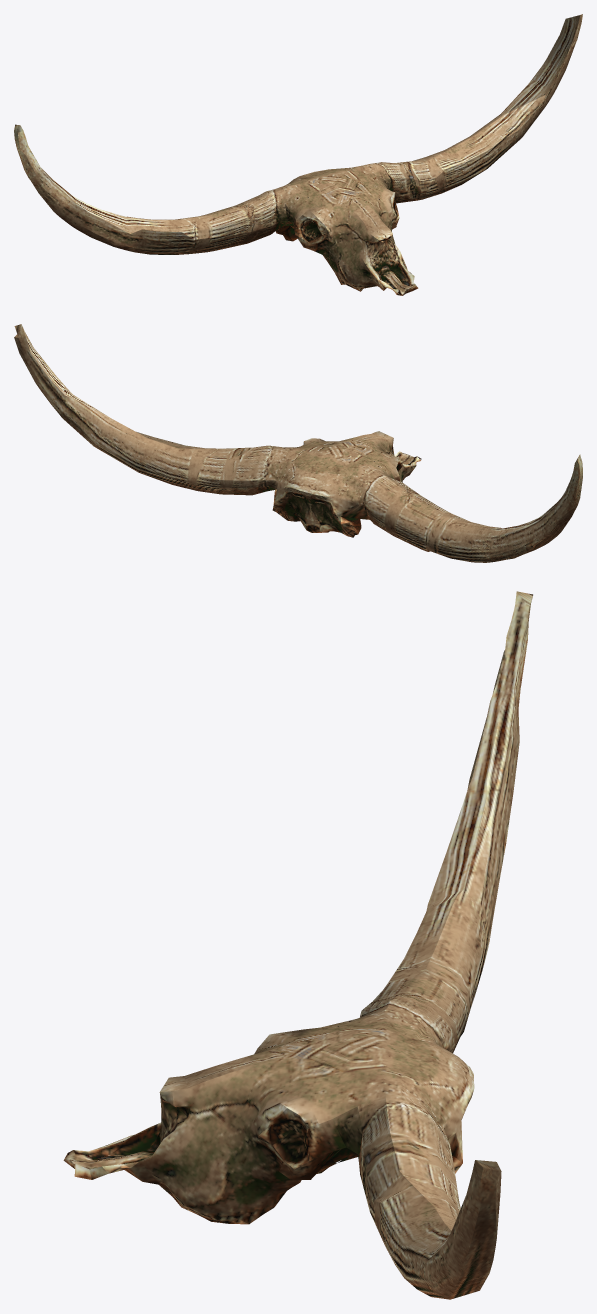
File: BisonSkull.fbx
The picture shows the model from 3 angles, top to bottom: view 1: azimuth 30°, elevation 25°; view 2: azimuth 150°, elevation 25°; view 3: azimuth 270°, elevation 25°; orthographic projection. The views are drawn at different scales.
Parts seen in each view (by area): view 1: RetopoGroup2; view 2: RetopoGroup2; view 3: RetopoGroup2.
Part boxes in pixels (box(x1,y1,x2,y2)): RetopoGroup2: box(14, 14, 582, 295); RetopoGroup2: box(14, 324, 582, 562); RetopoGroup2: box(63, 591, 532, 1299).
Size of the model in its own units: 2173 by 643 by 793.
